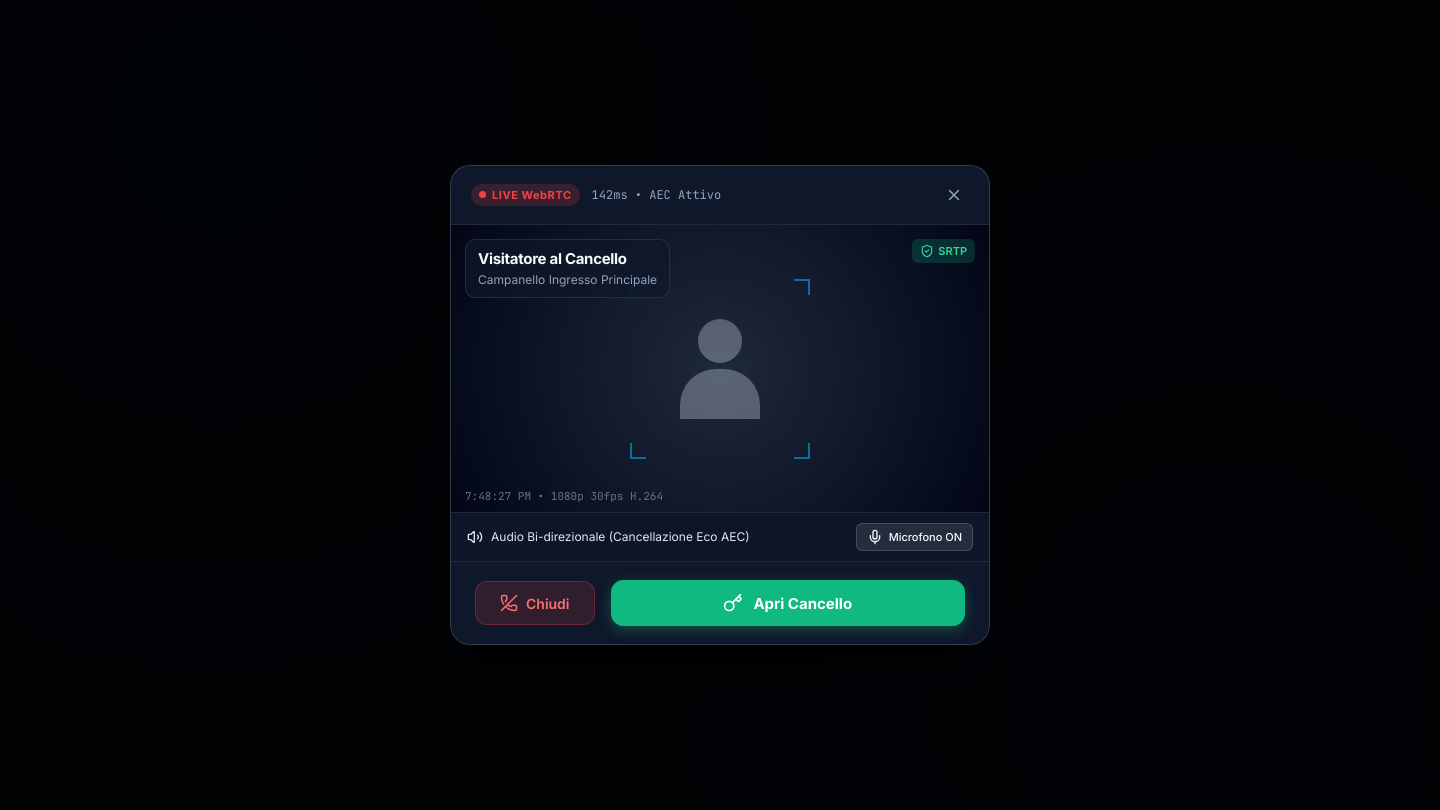
Scenario: IntercomCallModal.vue › toggles microphone mute state on click
Click the button with class "btn-mute-toggle".
click(914, 537)  # box [856,523,973,551]
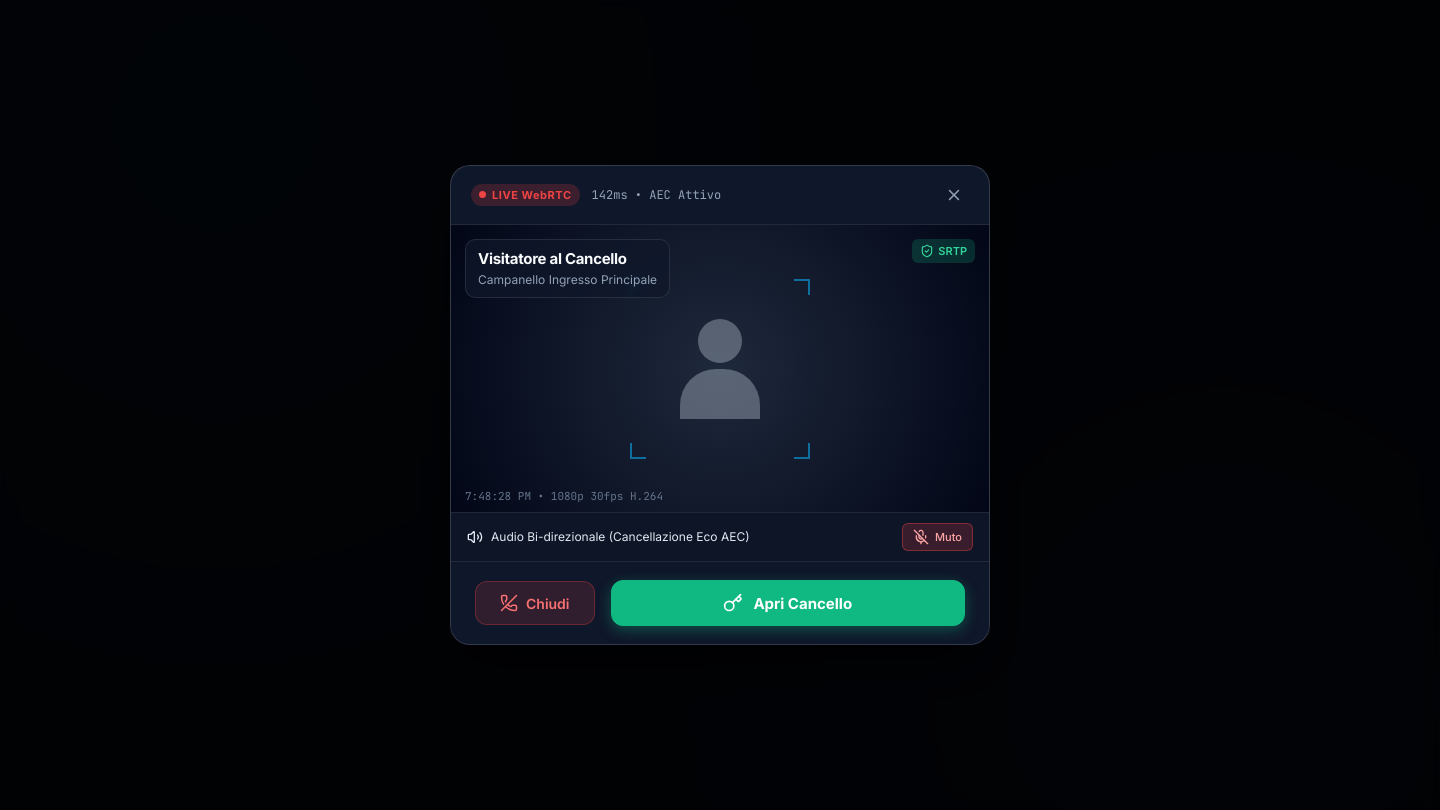
Check: the button with class "btn-mute-toggle" reads "Muto", box [902,523,973,551]
